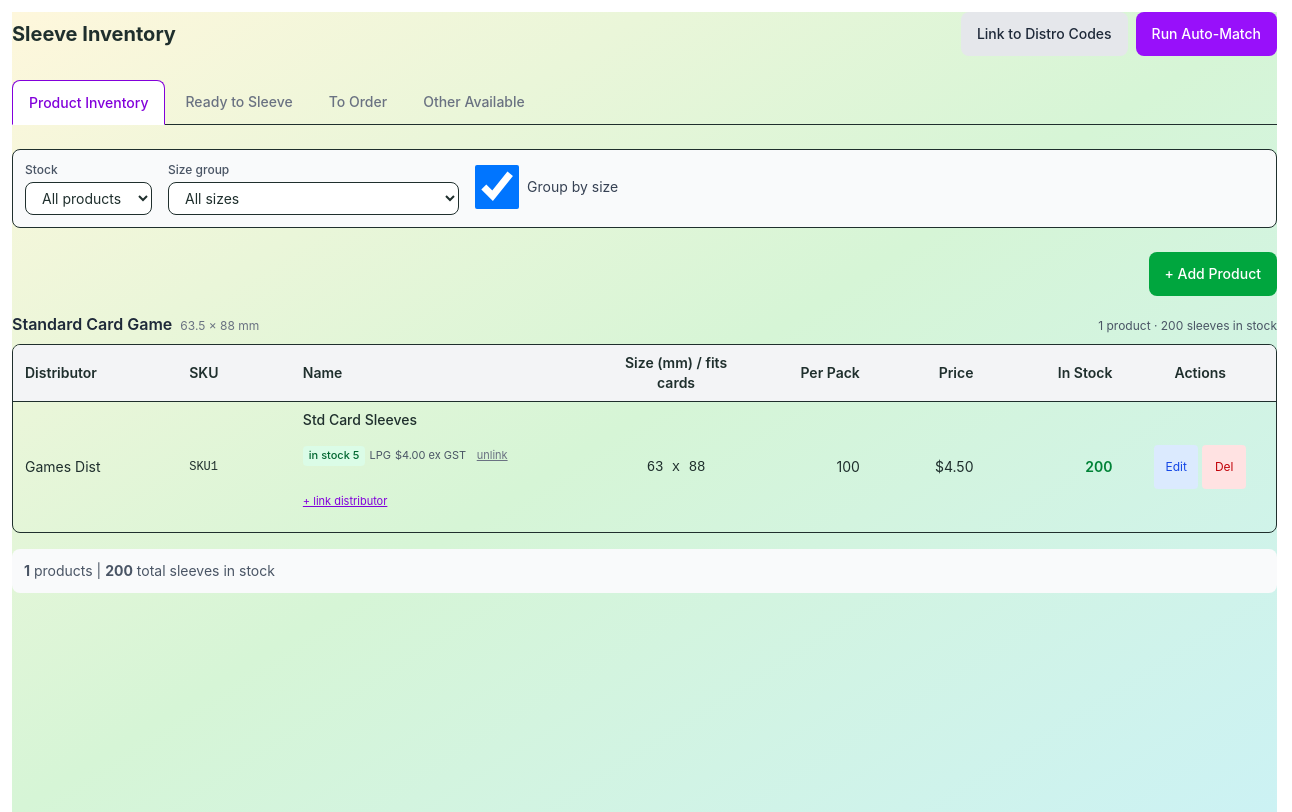
SleeveInventoryTab › HL distro code link › auto-link reports the result and reloads products
The width and height of the screenshot is (1292, 812).
Click the button "Link to Distro Codes" at coordinates (1044, 34), box [961,12,1128,56]
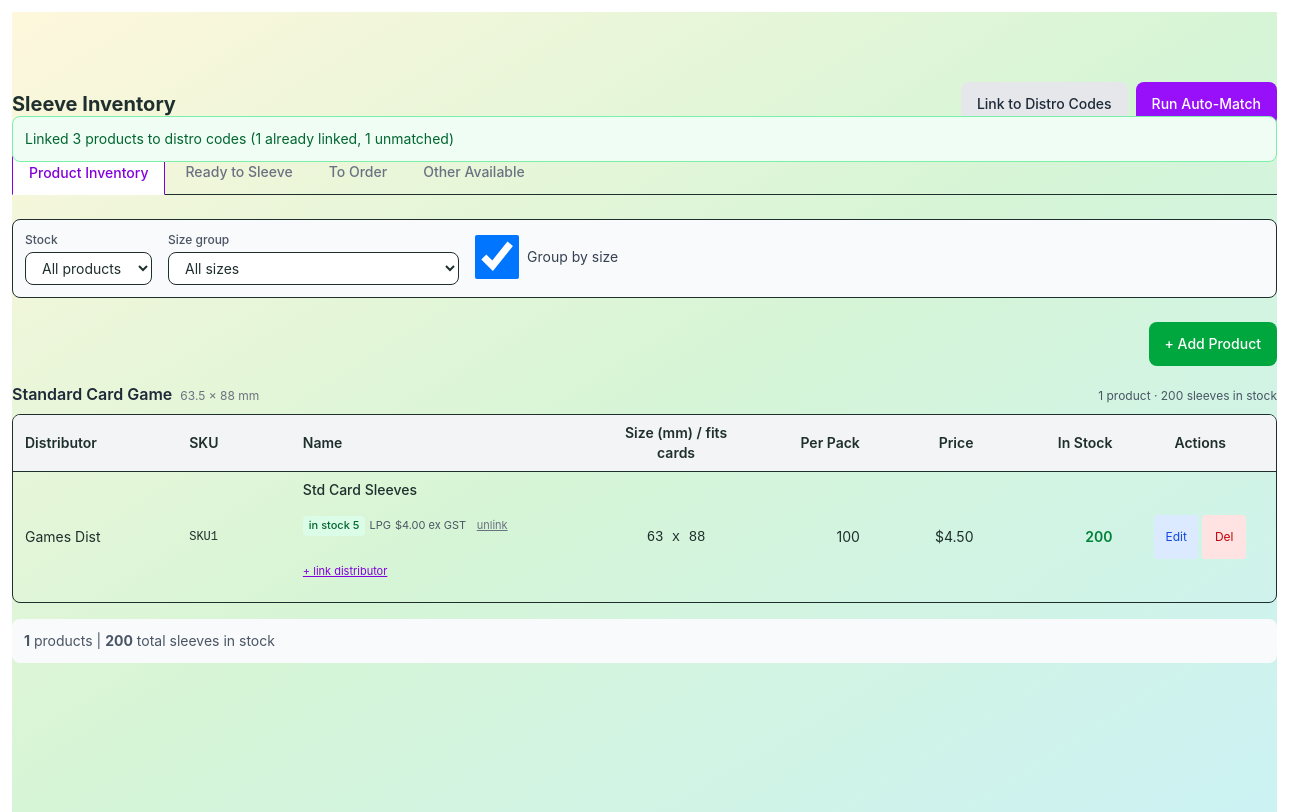
Check: the text "Linked 3 products to distro codes (1 already linked, 1 unmatched)" is shown, box [12,116,1277,162]
